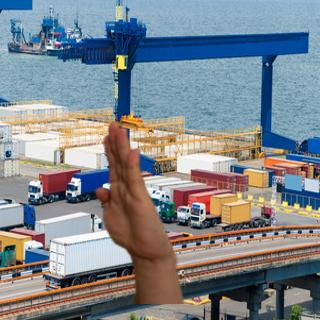RIGHT: (91, 116, 173, 261)
